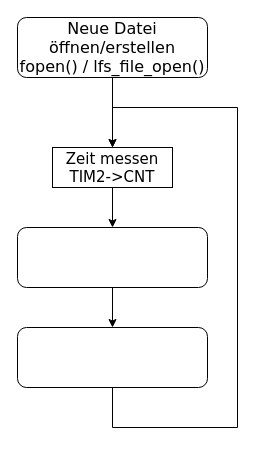
This 263x453 diagram has some shape labels left out. Here are the shapes that lost their labels. From the top down, the centre of each, then its label:
At pixel 112 257: "1024 Bytes an Daten anhängen fwrite() / lfs_file_write()".
At pixel 112 357: "ggf. Datei synchronisieren fsync() / lfs_file_sync()".
